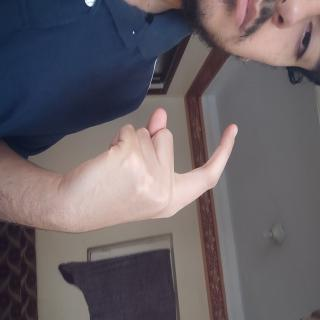RAA: (79, 105, 181, 320)
